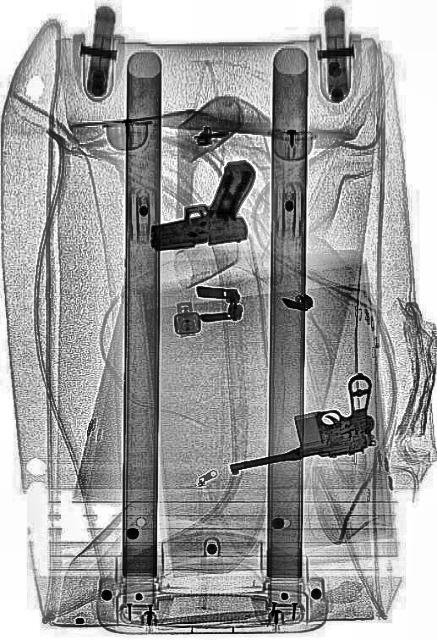Gun: (222, 370, 380, 476), (144, 156, 260, 252)
